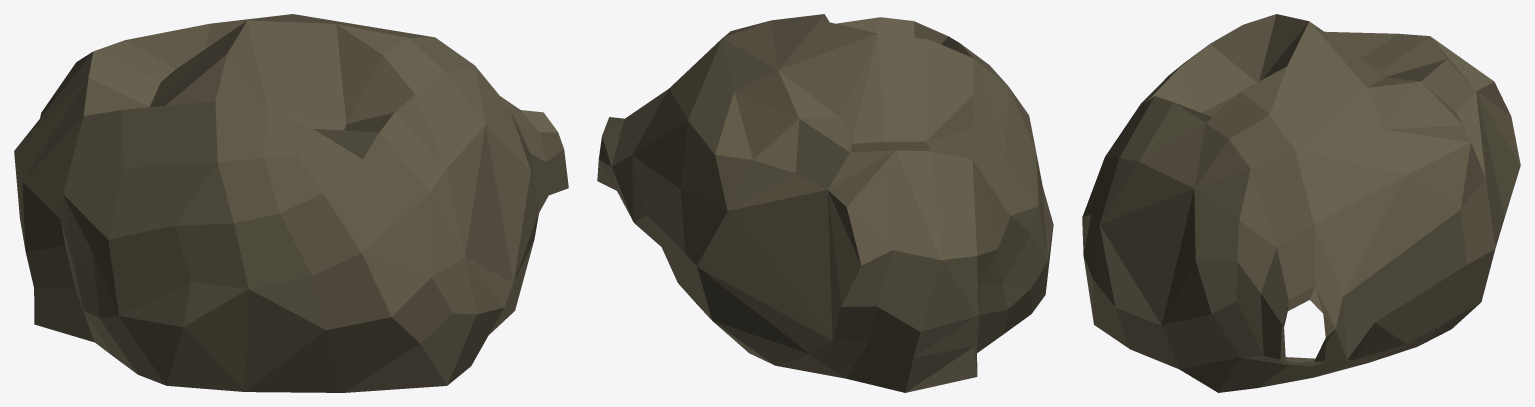
The model's file is Dome-1exit-03.fbx.
3 views of the same model, side by side, from view 1: azimuth 30°, elevation 25°; view 2: azimuth 150°, elevation 25°; view 3: azimuth 270°, elevation 25° (orthographic). The views are drawn at different scales.
Parts seen in each view (by area): view 1: Dome-1exit-03; view 2: Dome-1exit-03; view 3: Dome-1exit-03.
Part boxes in pixels (left/top/right/bottom): Dome-1exit-03: left=14, top=14, right=568, bottom=392; Dome-1exit-03: left=597, top=14, right=1053, bottom=392; Dome-1exit-03: left=1082, top=14, right=1520, bottom=392.
Size of the model in its own units: 1746 by 1958 by 1239.
